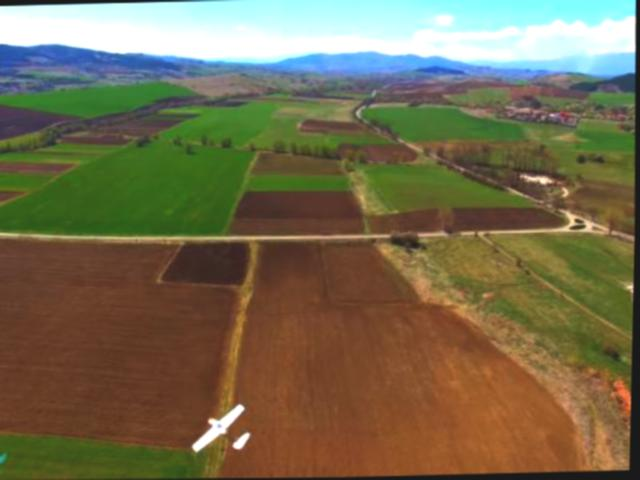uav: (189, 396, 259, 459)
